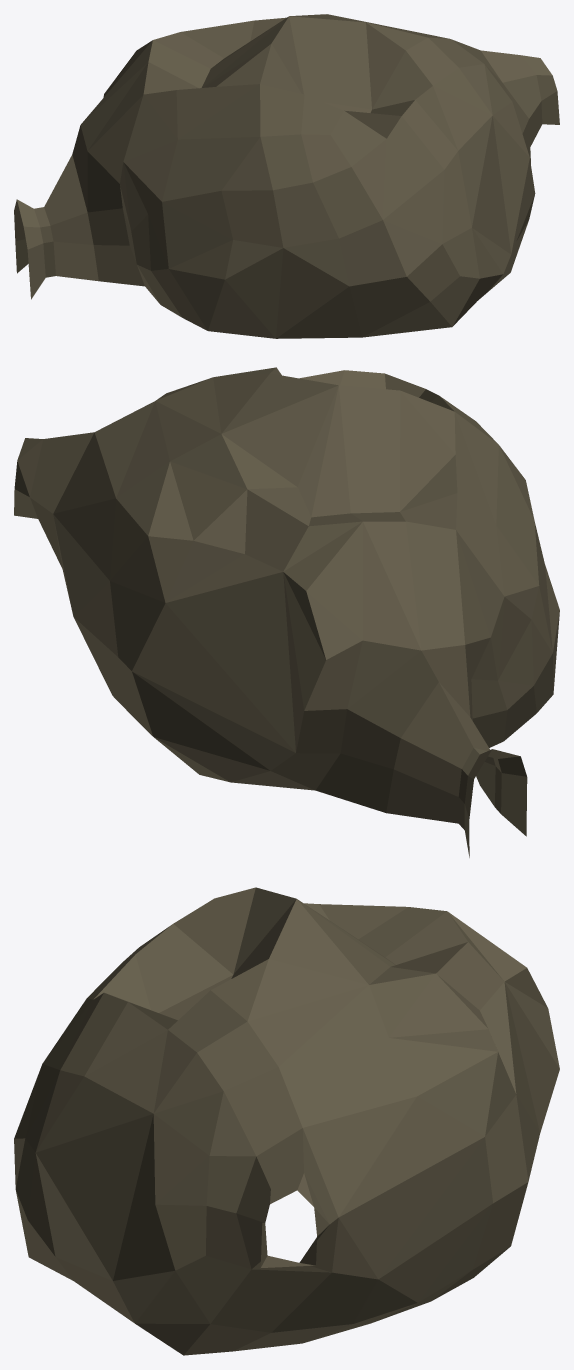
The model's file is Dome-2exits-03.fbx.
The picture shows the model from 3 angles, top to bottom: view 1: azimuth 30°, elevation 25°; view 2: azimuth 150°, elevation 25°; view 3: azimuth 270°, elevation 25°; orthographic projection. The views are drawn at different scales.
Visible parts, largest first — view 1: Dome-2exits-03; view 2: Dome-2exits-03; view 3: Dome-2exits-03.
Part boxes in pixels (x1,y1,x2,y2): Dome-2exits-03: [14, 14, 559, 338]; Dome-2exits-03: [14, 367, 559, 857]; Dome-2exits-03: [14, 887, 559, 1355].
Size of the model in its own units: 1746 by 2205 by 1268.
